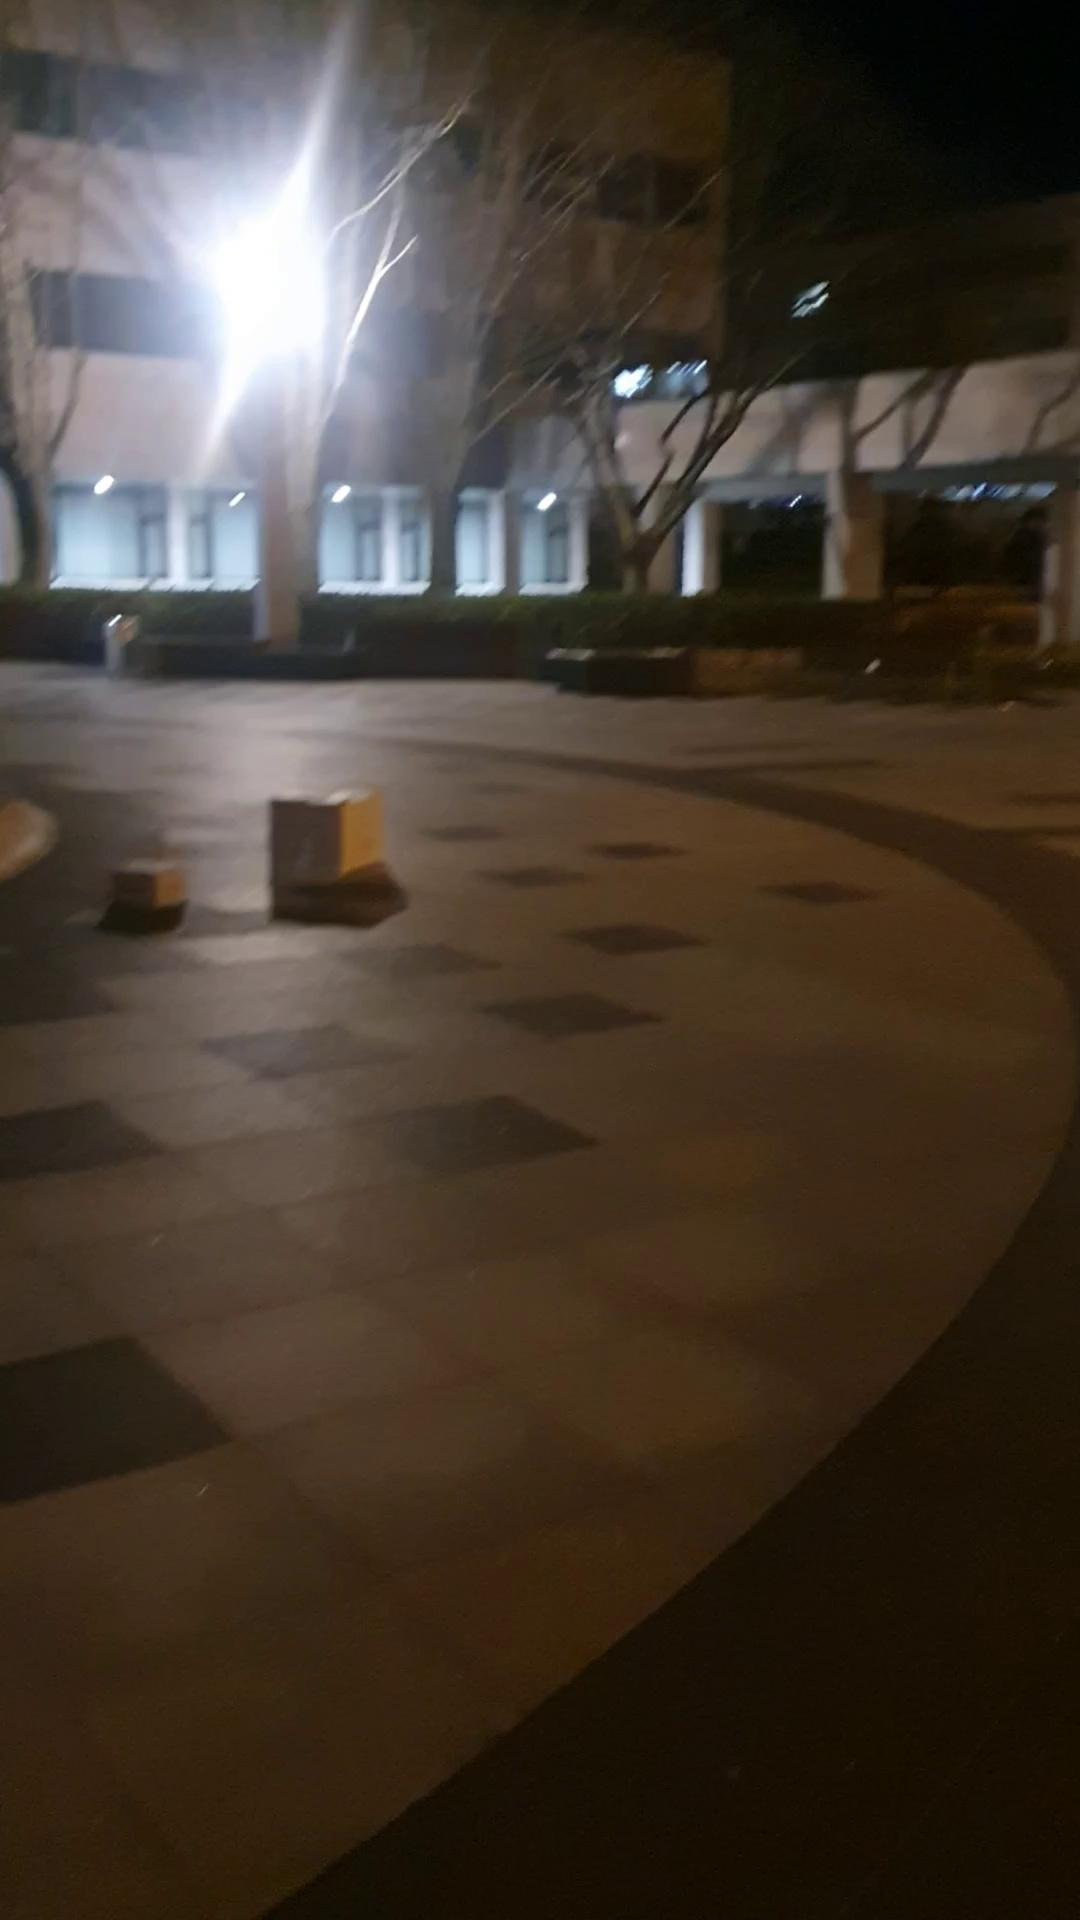Box: (256, 781, 378, 895), (105, 855, 198, 922)
